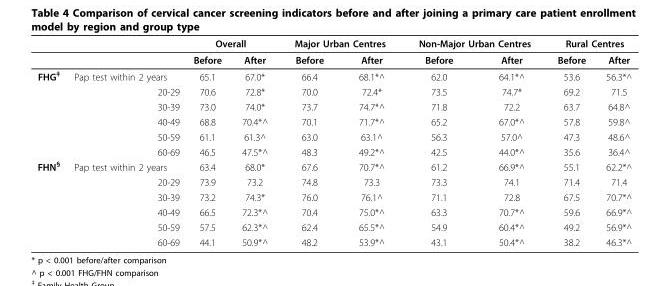table: (36, 37, 631, 247)
table column: (66, 37, 185, 247), (401, 37, 475, 247), (475, 37, 543, 247), (340, 37, 401, 247), (280, 37, 340, 247), (543, 37, 595, 247), (231, 37, 280, 247), (185, 37, 231, 247), (595, 37, 631, 247), (36, 37, 66, 247)
table column header: (36, 37, 631, 67)
table row: (36, 51, 631, 67), (36, 67, 631, 83), (36, 113, 631, 129), (36, 158, 631, 174), (36, 83, 631, 98), (36, 98, 631, 113), (36, 129, 631, 144), (36, 174, 631, 189), (36, 189, 631, 204), (36, 204, 631, 219), (36, 219, 631, 234), (36, 37, 631, 51), (36, 144, 631, 158), (36, 234, 631, 247)
table spanning cell: (36, 67, 66, 158), (36, 158, 66, 247), (401, 37, 543, 51), (280, 37, 401, 51), (185, 37, 280, 51), (543, 37, 631, 51)
